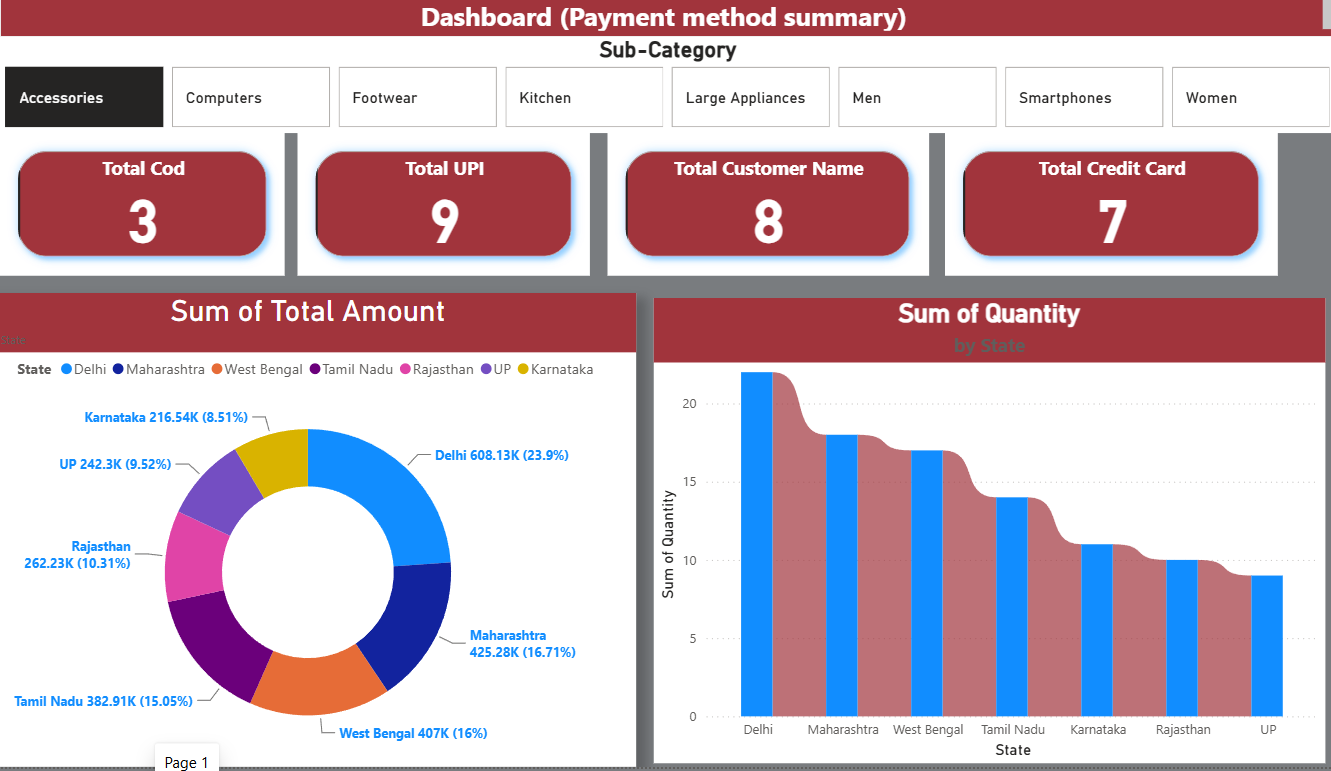

The page's visual inventory and layout, read from the dashboard file:
{"tool":"powerbi","page":{"name":"Page 1","canvas":[1280,720],"ordinal":0},"visuals":[{"type":"textbox","box":[18.9,0,1243.2,40.5],"z":0},{"type":"cardVisual","fields":{"Data":["EcommerceData.Total Cod"]},"box":[18.6,130.2,265.1,132.6],"z":1000},{"type":"cardVisual","fields":{"Data":["EcommerceData.Total Credit Card"]},"box":[897.7,130.2,309.3,132.6],"z":2000},{"type":"cardVisual","fields":{"Data":["EcommerceData.Total Debit Card"]},"box":[583.7,130.2,298.8,132.6],"z":3000},{"type":"cardVisual","fields":{"Data":["EcommerceData.Total UPI"]},"box":[295.3,130.2,272.1,132.6],"z":5000},{"type":"donutChart","fields":{"Category":["EcommerceData.State"],"Y":["Sum(EcommerceData.Total Amount)"]},"box":[0,279.1,610.5,440.7],"z":6000},{"type":"ribbonChart","fields":{"Category":["EcommerceData.State"],"Y":["Sum(EcommerceData.Quantity)"]},"box":[626.7,283.7,624.4,432.6],"z":7000},{"type":"advancedSlicerVisual","fields":{"Values":["EcommerceData.Sub-Category"]},"box":[18.6,40.7,1243,89.5],"z":8000}]}

Visuals, with their boxes in screenshot pixels (x1, y1, x2, y2), scaled from the page's 1280x720 canvas onto the 1331x771 screenshot:
textbox: [20, 0, 1312, 43]
cardVisual - EcommerceData.Total Cod: [19, 139, 295, 281]
cardVisual - EcommerceData.Total Credit Card: [933, 139, 1255, 281]
cardVisual - EcommerceData.Total Debit Card: [607, 139, 918, 281]
cardVisual - EcommerceData.Total UPI: [307, 139, 590, 281]
donutChart - EcommerceData.State x Sum(EcommerceData.Total Amount): [0, 299, 635, 770]
ribbonChart - EcommerceData.State x Sum(EcommerceData.Quantity): [652, 304, 1301, 767]
advancedSlicerVisual - EcommerceData.Sub-Category: [19, 44, 1312, 139]
